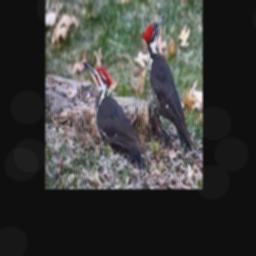Woodpecker: (142, 15, 196, 156), (83, 61, 149, 159)
